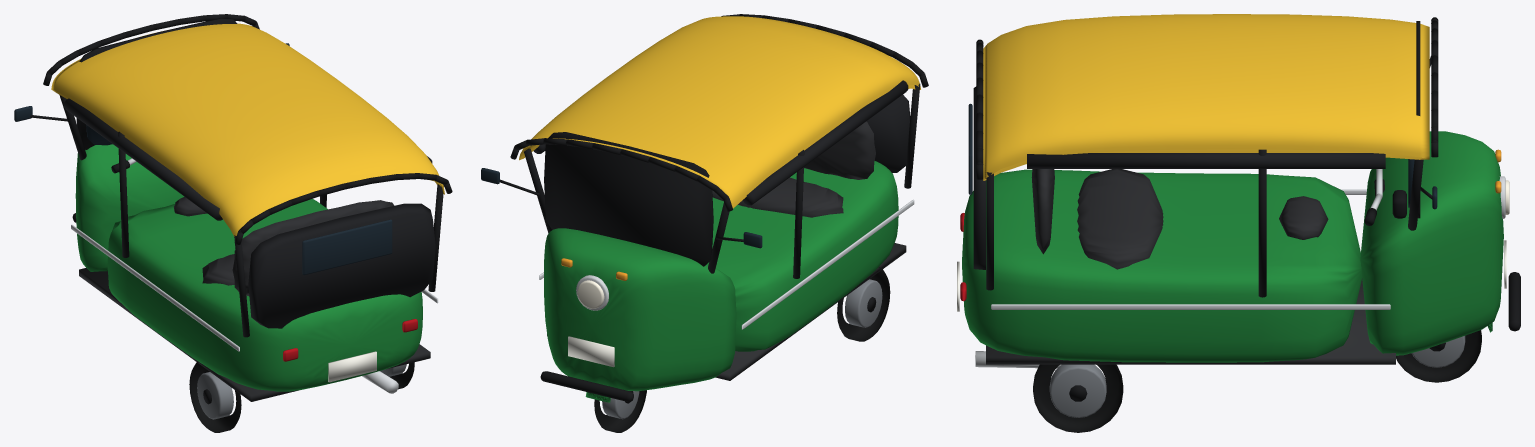
File: auto.glb
3 renders of one model, left to right at view 1: azimuth 30°, elevation 25°; view 2: azimuth 150°, elevation 25°; view 3: azimuth 270°, elevation 25°, orthographic. The views are drawn at different scales.
Parts seen in each view (by area): view 1: auto_hood, auto_tub, auto_rear_panel, auto_nose, auto_rear_window, auto_curtain_l, auto_backrest, auto_floor, auto_wheel_l_rim, auto_wheel_l_tyre, auto_waist_l, auto_plate_b (+7 smaller); view 2: auto_hood, auto_nose, auto_tub, auto_screen_frame, auto_curtain_l, auto_backrest, auto_rear_panel, auto_bench, auto_wheel_l_rim, auto_floor, auto_wheel_l_tyre, auto_bumper (+9 smaller); view 3: auto_hood, auto_tub, auto_nose, auto_bench, auto_curtain_r, auto_floor, auto_wheel_r_tyre, auto_waist_r, auto_wheel_r_rim, auto_wheel_f_tyre, auto_driver_seat, auto_backrest (+7 smaller).
Boxes of the visible parts, <box> form: auto_hood: <box>51,23,444,236</box>; auto_tub: <box>107,199,422,391</box>; auto_rear_panel: <box>248,203,435,328</box>; auto_nose: <box>75,144,184,271</box>; auto_rear_window: <box>302,219,392,275</box>; auto_curtain_l: <box>64,98,222,220</box>; auto_backrest: <box>232,200,394,295</box>; auto_floor: <box>79,268,430,401</box>; auto_wheel_l_rim: <box>197,372,233,419</box>; auto_wheel_l_tyre: <box>189,361,241,432</box>; auto_waist_l: <box>71,224,239,351</box>; auto_plate_b: <box>328,351,376,382</box>; auto_hood: <box>519,16,920,208</box>; auto_nose: <box>544,228,736,391</box>; auto_tub: <box>707,161,898,351</box>; auto_screen_frame: <box>544,132,713,266</box>; auto_curtain_l: <box>743,80,908,205</box>; auto_backrest: <box>804,121,875,179</box>; auto_rear_panel: <box>866,95,910,172</box>; auto_bench: <box>712,177,843,217</box>; auto_wheel_l_rim: <box>845,279,882,327</box>; auto_floor: <box>547,243,906,380</box>; auto_wheel_l_tyre: <box>837,267,890,341</box>; auto_bumper: <box>540,371,633,401</box>; auto_hood: <box>983,14,1429,180</box>; auto_tub: <box>962,169,1361,362</box>; auto_nose: <box>1360,131,1503,355</box>; auto_bench: <box>1077,169,1163,269</box>; auto_curtain_r: <box>1027,153,1385,168</box>; auto_floor: <box>986,278,1395,364</box>; auto_wheel_r_tyre: <box>1033,364,1123,432</box>; auto_waist_r: <box>991,304,1390,309</box>; auto_wheel_r_rim: <box>1049,364,1106,417</box>; auto_wheel_f_tyre: <box>1396,330,1481,382</box>; auto_driver_seat: <box>1279,196,1328,239</box>; auto_backrest: <box>1031,169,1054,254</box>.
Bounding box in the file's own units: 1.84 × 1.78 × 2.75.
